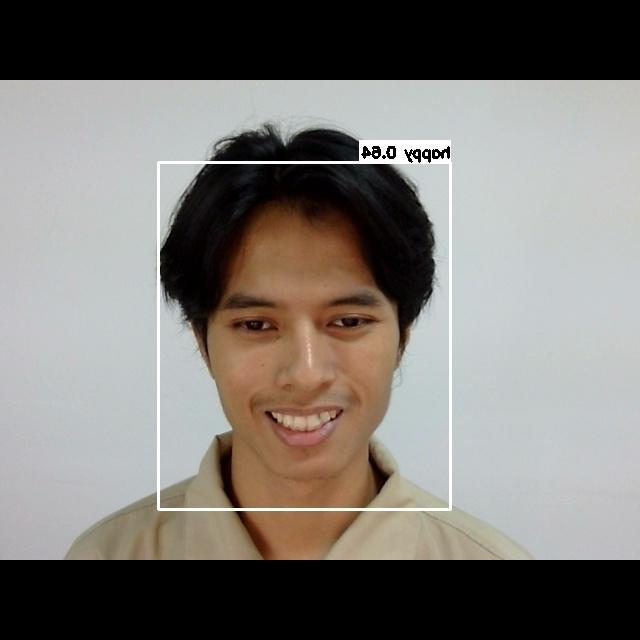Happy: (186, 264, 409, 454)
